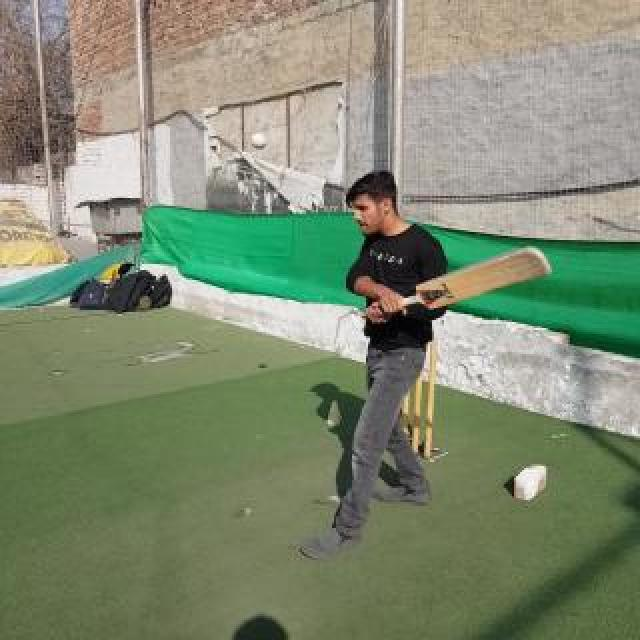ball: (251, 132, 267, 148)
bat: (364, 247, 552, 319)
